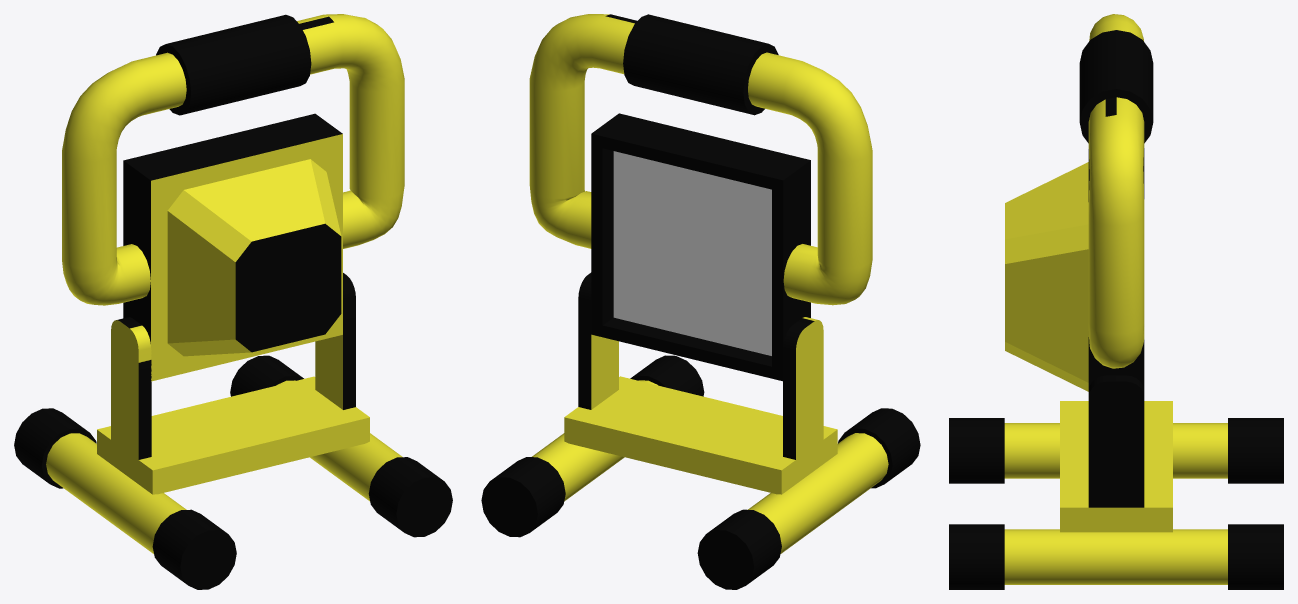
The model's file is FloodLightPortable.fbx.
The picture shows the model from 3 angles, left to right: view 1: azimuth 30°, elevation 25°; view 2: azimuth 150°, elevation 25°; view 3: azimuth 270°, elevation 25°; orthographic projection.
Visible parts, largest first — view 1: Cylinder.002; view 2: Cylinder.002; view 3: Cylinder.002.
Boxes of the visible parts, x1,y1,x2,y2 form: Cylinder.002: [14, 14, 452, 589]; Cylinder.002: [481, 14, 920, 589]; Cylinder.002: [949, 14, 1283, 589].
Bounding box in the file's own units: 1400 × 1874 × 1200.
